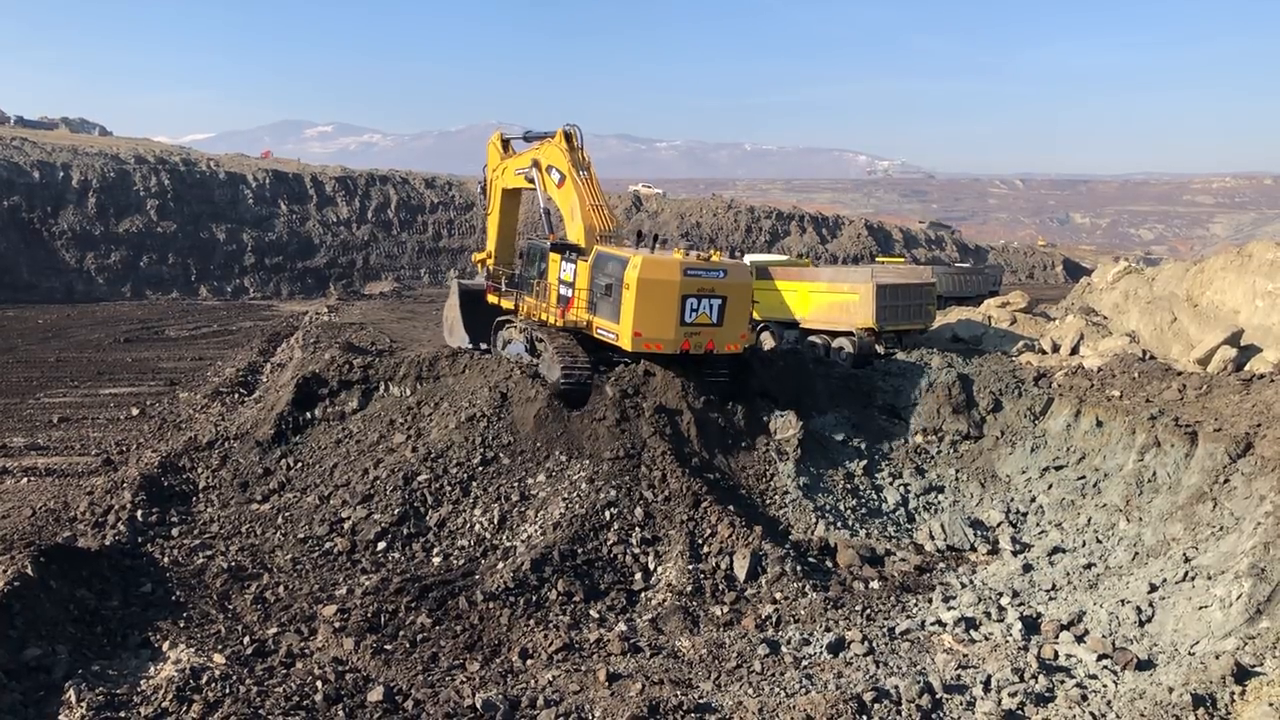empty: (441, 272, 519, 355)
